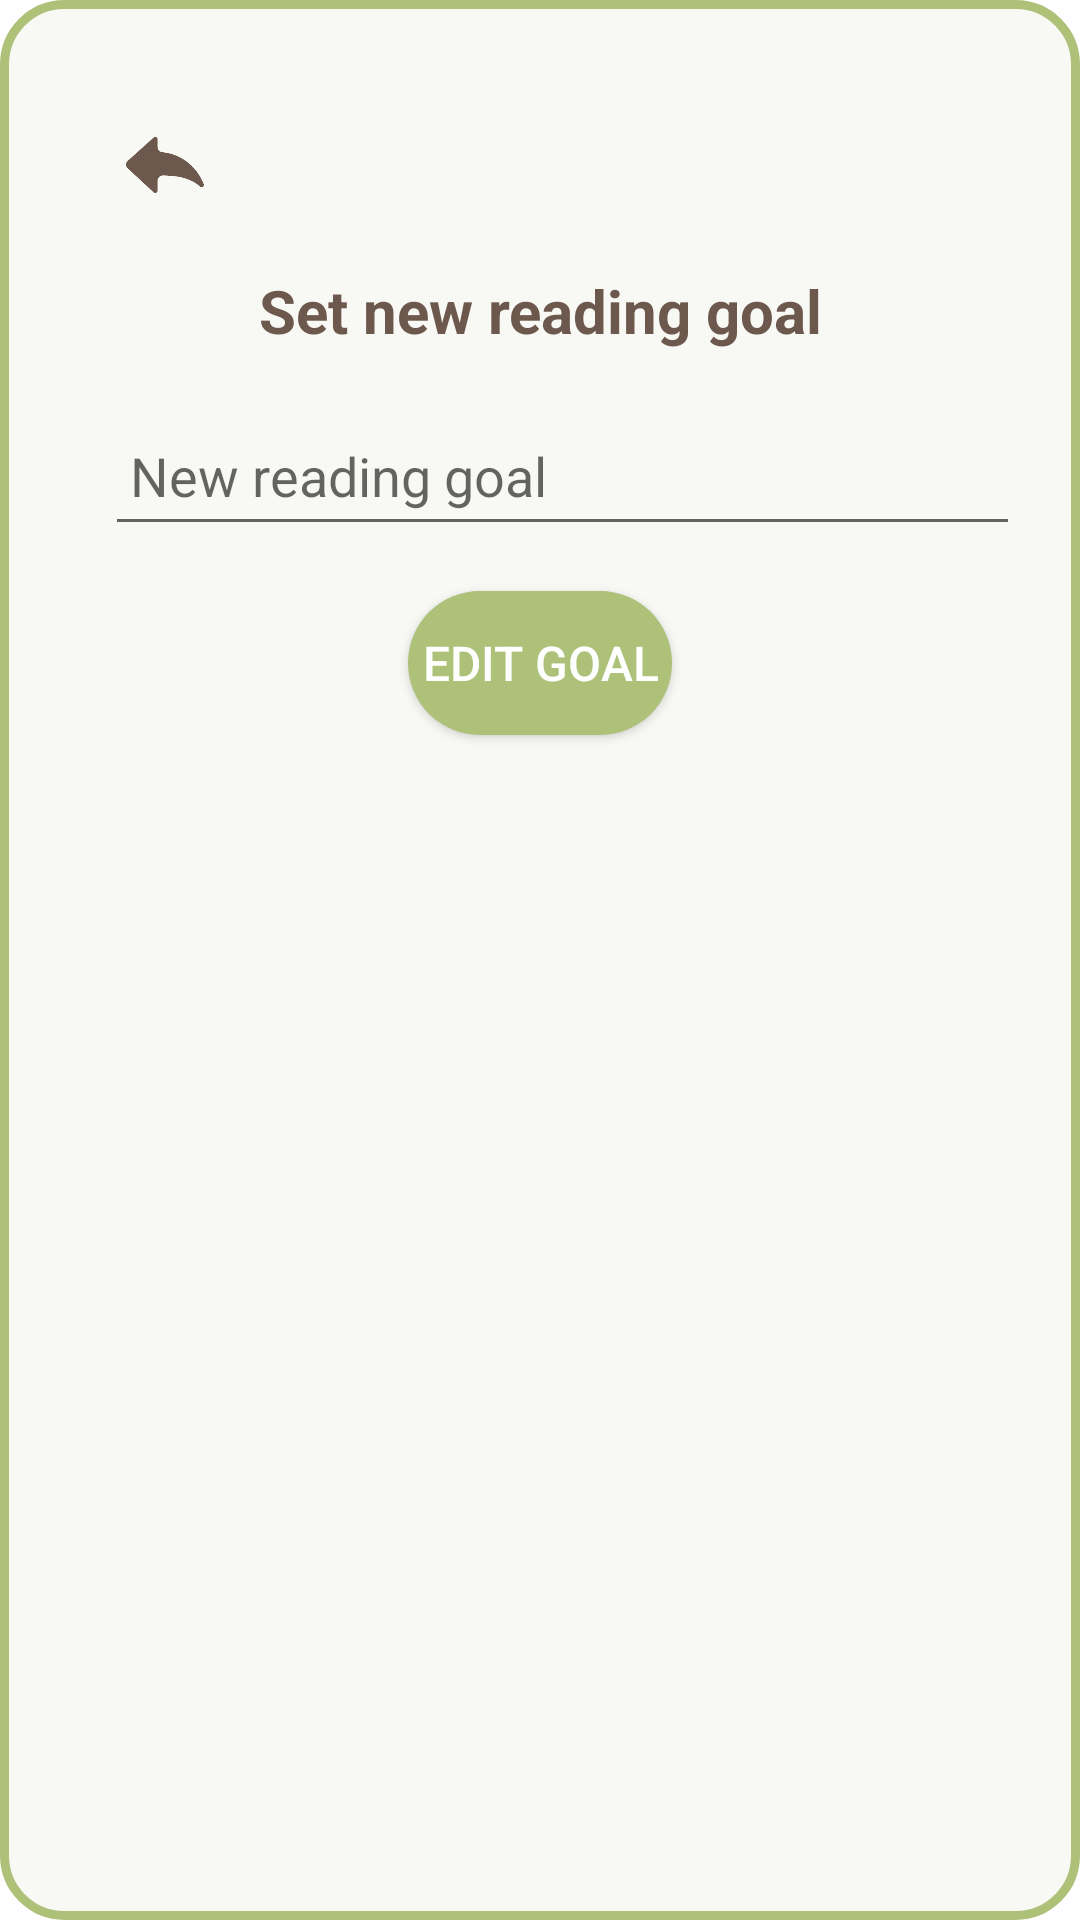

Named icons in this screenshot (1080w x 1920h) and their centers, [x,y]:
back: [165,165]
